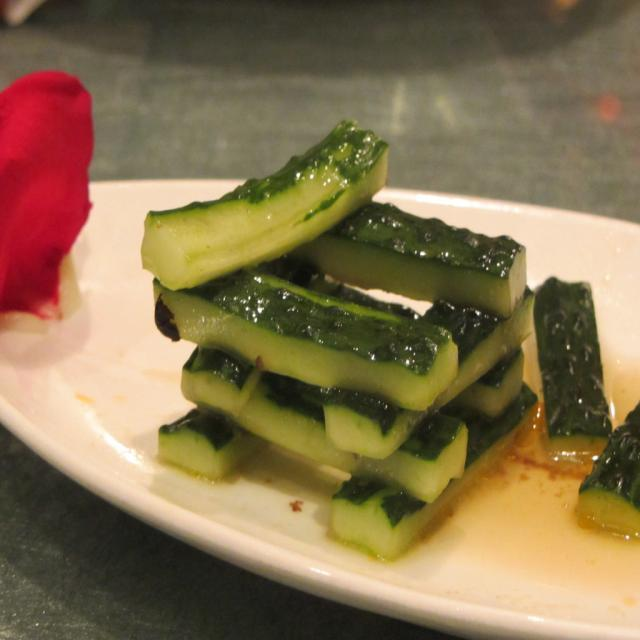Zucchini: (98, 107, 606, 565)
